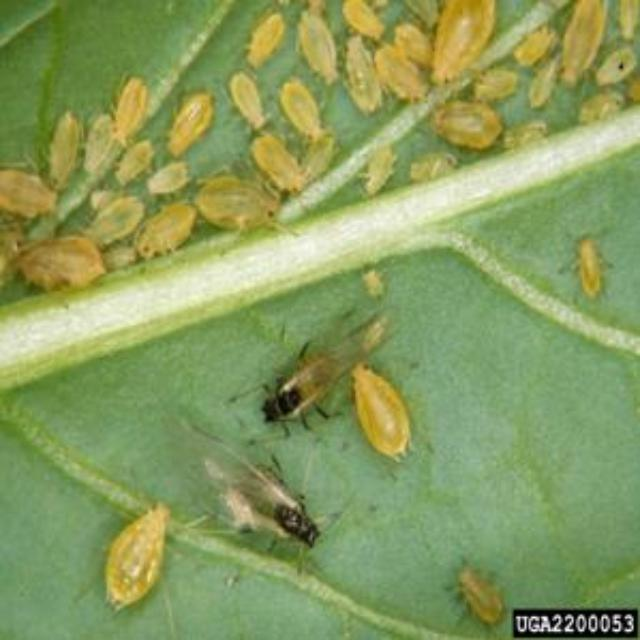Green peach aphid: (182, 419, 332, 575), (244, 302, 401, 410), (93, 485, 197, 601), (336, 364, 432, 471), (422, 553, 520, 640), (548, 228, 636, 320), (0, 223, 102, 293), (552, 0, 619, 94), (423, 0, 495, 82), (186, 180, 284, 238), (214, 64, 280, 146), (332, 36, 388, 130), (127, 199, 199, 263), (29, 114, 89, 188), (242, 14, 304, 84), (272, 71, 334, 141), (0, 158, 62, 227), (243, 125, 310, 188), (422, 104, 506, 150), (106, 65, 164, 128), (70, 108, 128, 168), (287, 20, 339, 86), (164, 91, 218, 152), (464, 63, 520, 104), (509, 22, 556, 62)
